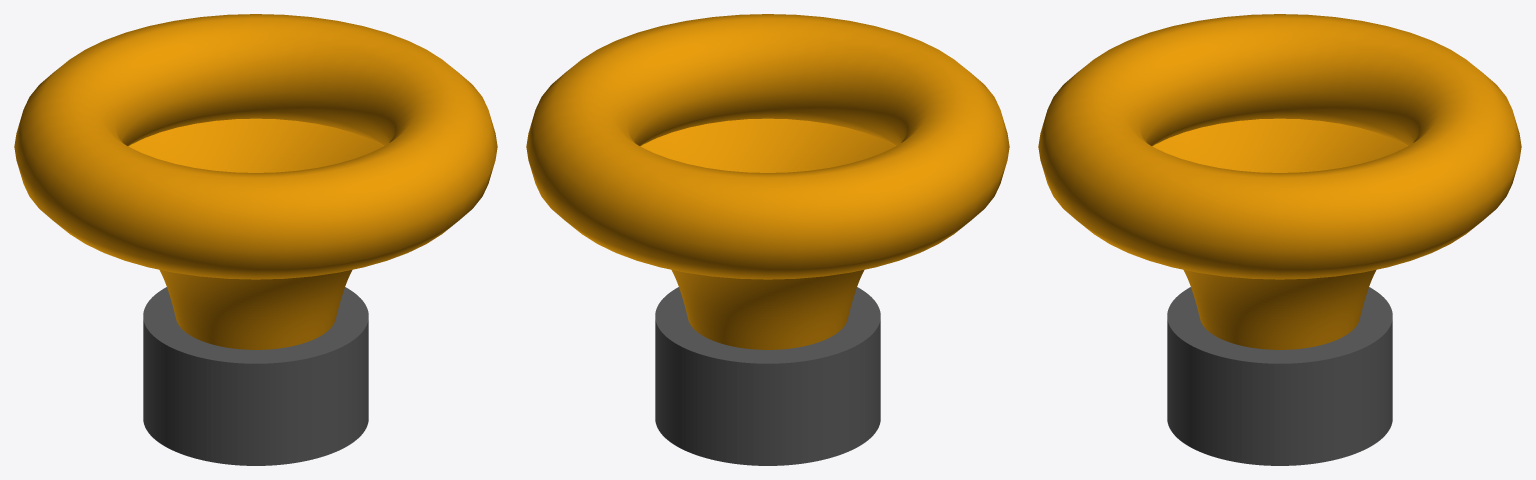
File: BubblePipe.fbx
The picture shows the model from 3 angles, left to right: view 1: azimuth 30°, elevation 25°; view 2: azimuth 150°, elevation 25°; view 3: azimuth 270°, elevation 25°; orthographic projection.
Parts seen in each view (by area): view 1: Pipe, Cylinder; view 2: Pipe, Cylinder; view 3: Pipe, Cylinder.
Part boxes in pixels (box(x1,y1,x2,y2)): Pipe: box(14, 14, 497, 349); Cylinder: box(143, 287, 368, 465); Pipe: box(526, 14, 1009, 349); Cylinder: box(655, 287, 880, 465); Pipe: box(1038, 14, 1521, 349); Cylinder: box(1167, 287, 1392, 465).
Size of the model in its own units: 506 by 370 by 506.
